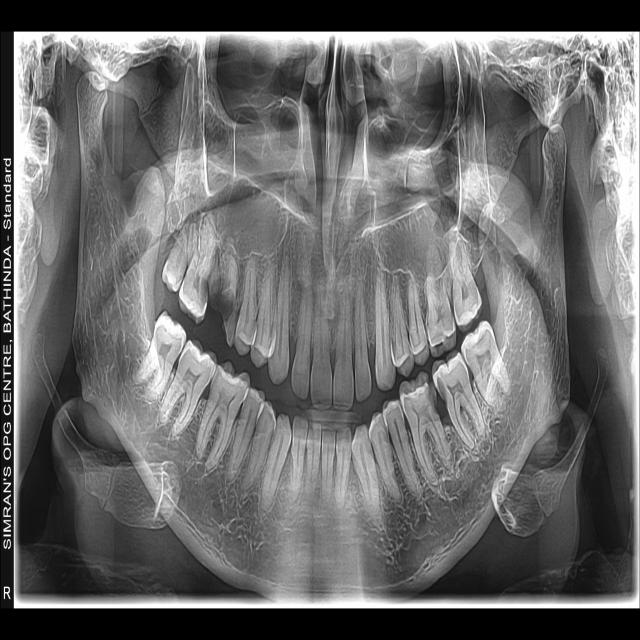Root Piece: (208, 253, 221, 310)
